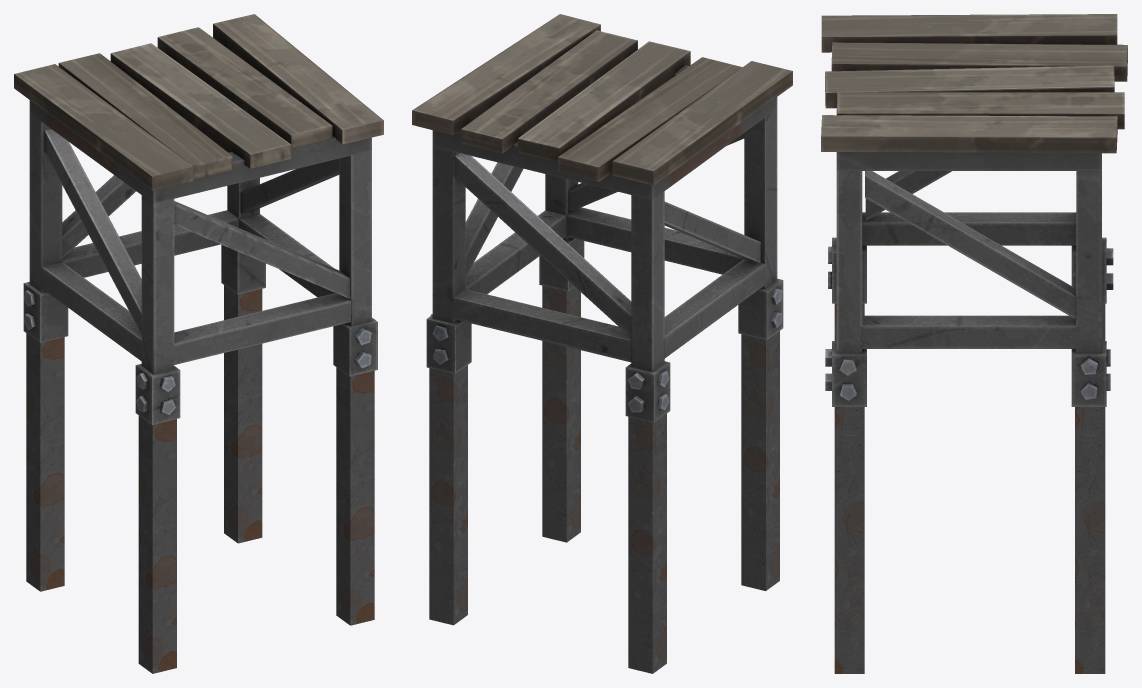
The model's file is WoodPlatform1x1.glb.
3 renders of one model, left to right at view 1: azimuth 30°, elevation 25°; view 2: azimuth 150°, elevation 25°; view 3: azimuth 270°, elevation 25°, orthographic. The views are drawn at different scales.
Visible parts, largest first — view 1: 1x1Scaffold, WoodPlatform1x1, ScaleSupportBeam_Metal (2) (×4); view 2: 1x1Scaffold, WoodPlatform1x1, ScaleSupportBeam_Metal (2) (×4); view 3: WoodPlatform1x1, 1x1Scaffold, ScaleSupportBeam_Metal (2) (×2).
Boxes of the visible parts, x1,y1,x2,y2 form: 1x1Scaffold: (23, 113, 377, 424); WoodPlatform1x1: (14, 14, 383, 203); ScaleSupportBeam_Metal (2) (×4): (26, 285, 374, 673); 1x1Scaffold: (426, 109, 783, 422); WoodPlatform1x1: (412, 14, 792, 199); ScaleSupportBeam_Metal (2) (×4): (429, 285, 779, 673); WoodPlatform1x1: (821, 14, 1127, 170); 1x1Scaffold: (825, 171, 1113, 406); ScaleSupportBeam_Metal (2) (×2): (834, 407, 1105, 673).
Bounding box in the file's own units: 1 × 2.02 × 1.04.
3 materials, 3 textured.
